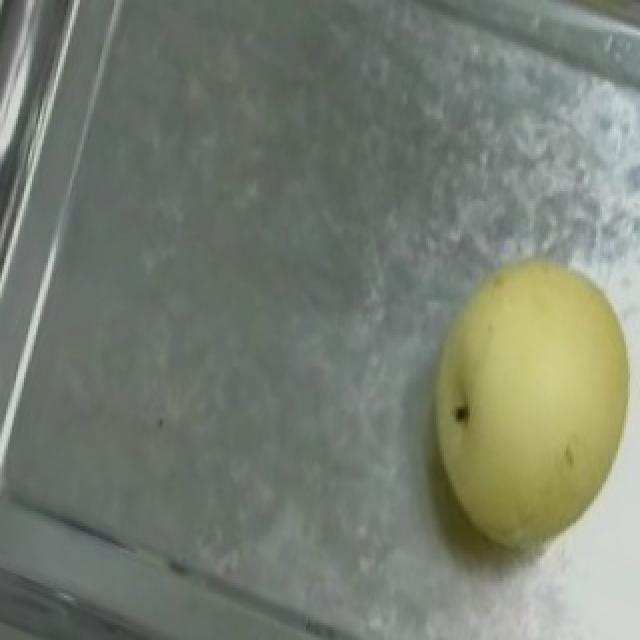Fruit: (378, 221, 640, 585)
